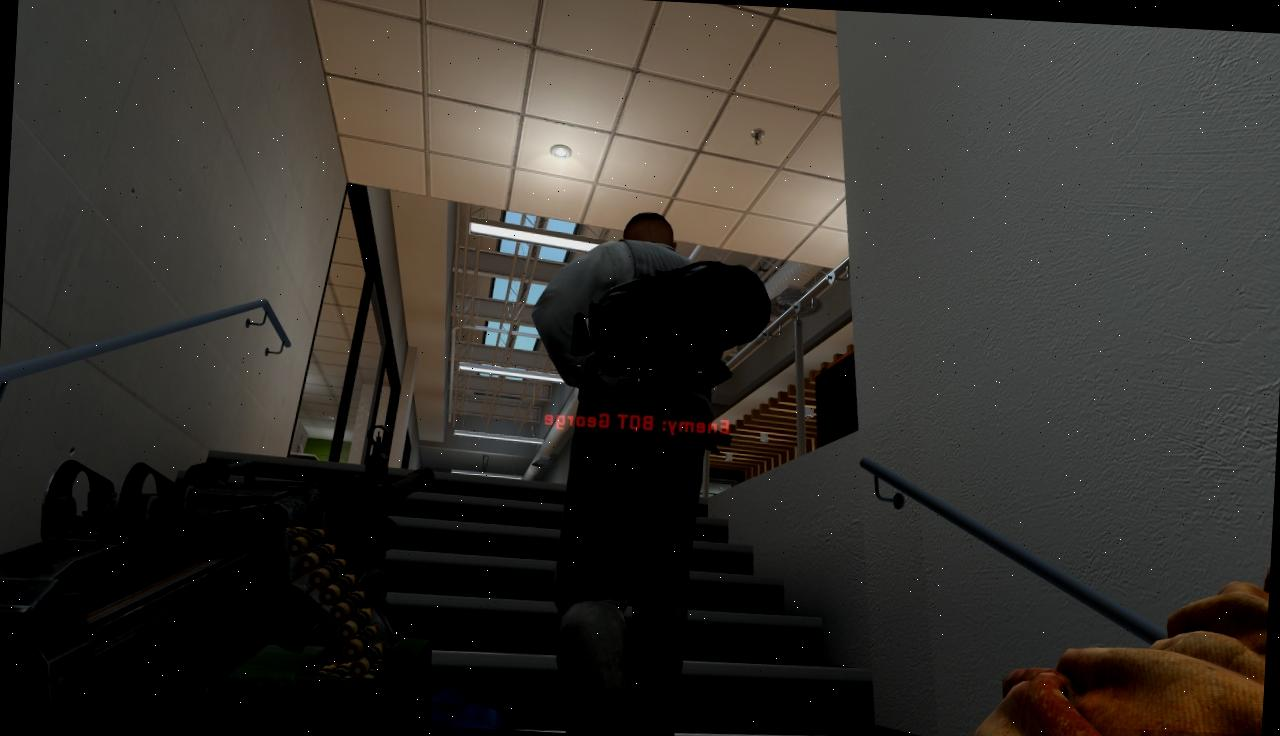rifle: (0, 400, 442, 725)
tt: (508, 201, 745, 736)
tthead: (620, 208, 680, 252)
